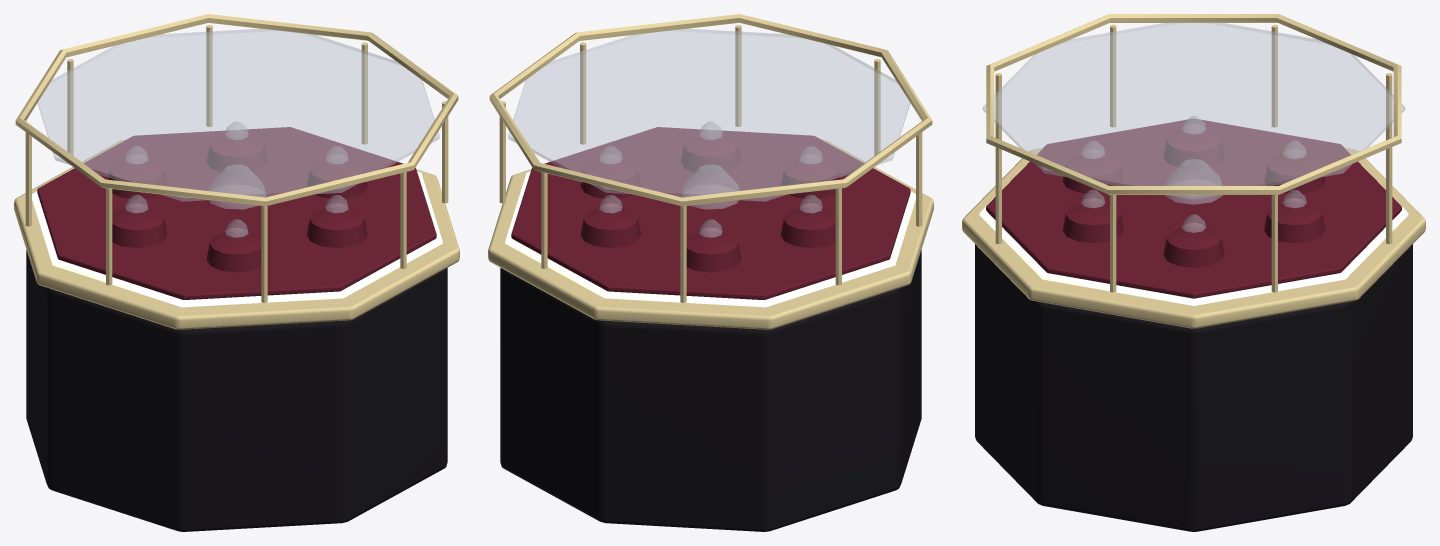
File: diamond_island.glb
3 views of the same model, side by side, from view 1: azimuth 30°, elevation 25°; view 2: azimuth 150°, elevation 25°; view 3: azimuth 270°, elevation 25° (orthographic).
Parts seen in each view (by area): view 1: diamond_island; view 2: diamond_island; view 3: diamond_island.
Boxes of the visible parts, x1=… form: diamond_island: x1=14, y1=14, x2=459, y2=531; diamond_island: x1=488, y1=14, x2=933, y2=531; diamond_island: x1=962, y1=14, x2=1425, y2=531.
Bounding box in the file's own units: 1.51 × 1.23 × 1.51.
